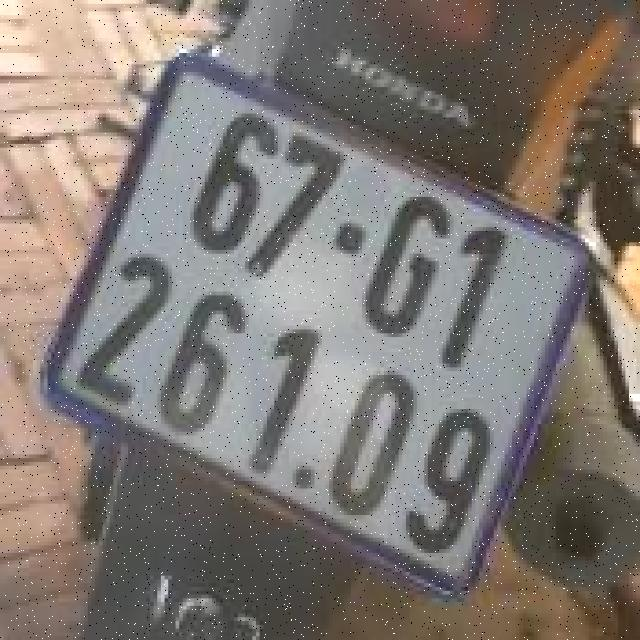0: (312, 353, 434, 530)
1: (228, 308, 350, 485), (413, 211, 531, 388)
2: (70, 238, 199, 411)
6: (143, 272, 275, 449), (180, 97, 295, 267)
7: (230, 121, 366, 290)
9: (394, 388, 516, 570)
G: (349, 179, 472, 353)
